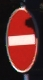No entry: (5, 8, 38, 73)
